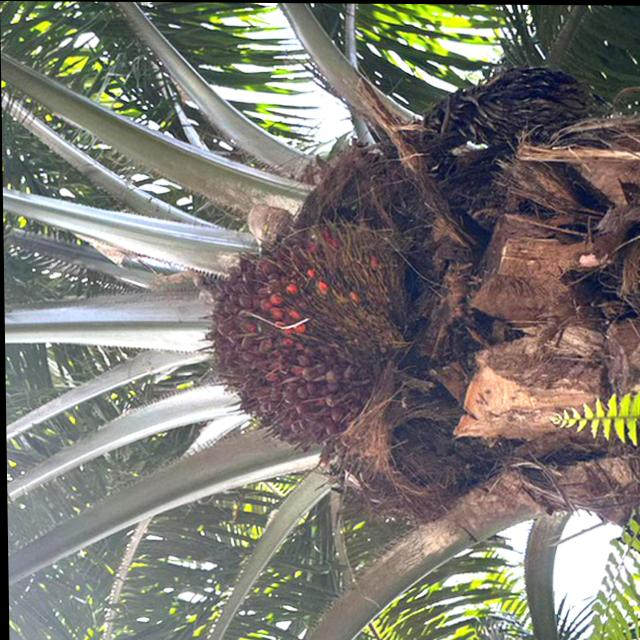ripe: (184, 191, 420, 475)
